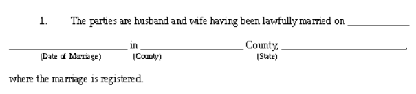textline: (280, 41, 407, 52), (8, 41, 129, 52), (139, 41, 245, 52), (346, 17, 410, 28)
